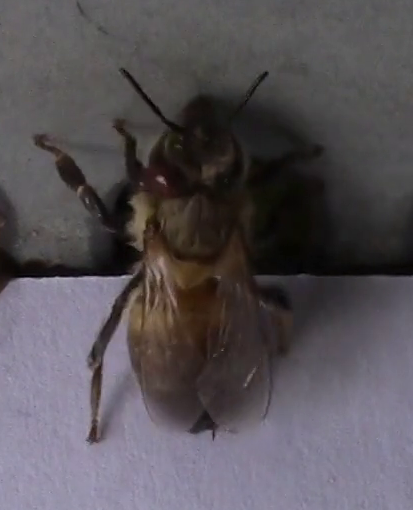Varroa destructor: (146, 153, 189, 197)
